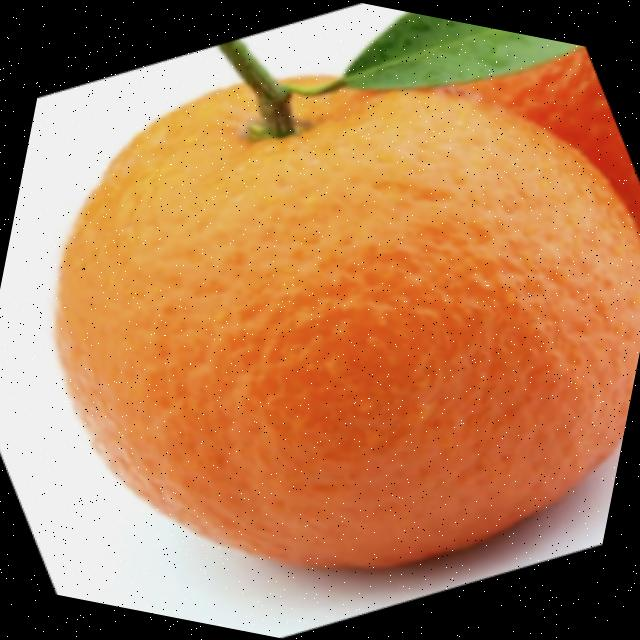orange: (11, 20, 640, 623)
